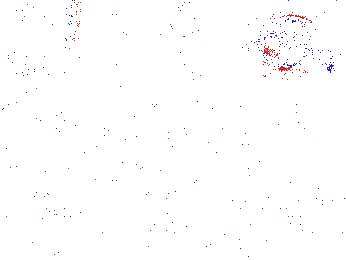moon jellyfish: (1, 1, 79, 81), (258, 14, 333, 76), (1, 1, 52, 71), (168, 1, 271, 34)
